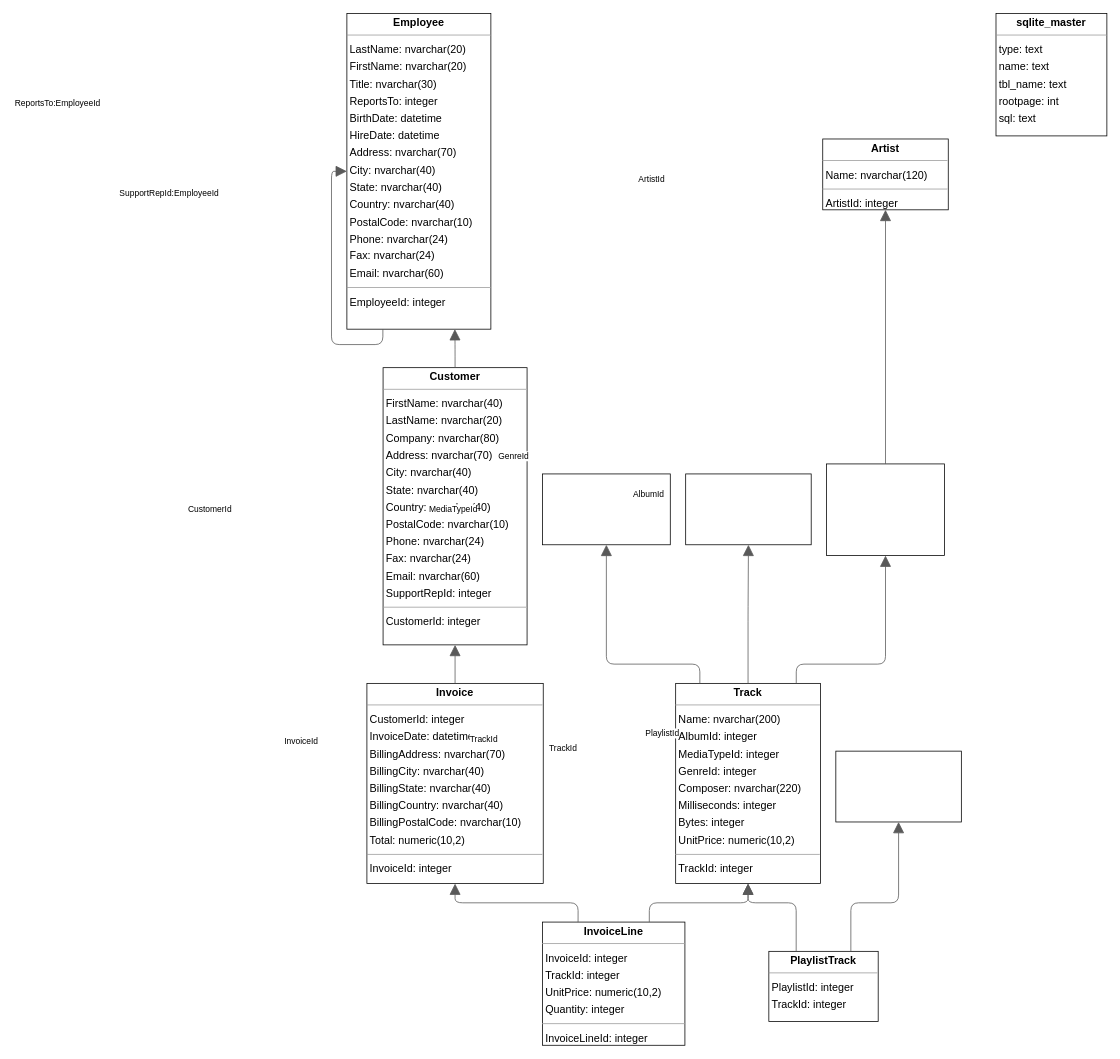
Some shapes in this 1120 by 1059 pixel diagram are drawn without their labels. Here are the shapes that lost their labels. From the top down, the centre of each, then its label:
pixel 606 509: MediaType Name: nvarchar(120) MediaTypeId: integer
pixel 748 509: Genre Name: nvarchar(120) GenreId: integer
pixel 885 509: Album Title: nvarchar(160) ArtistId: integer AlbumId: integer
pixel 898 786: Playlist Name: nvarchar(120) PlaylistId: integer
